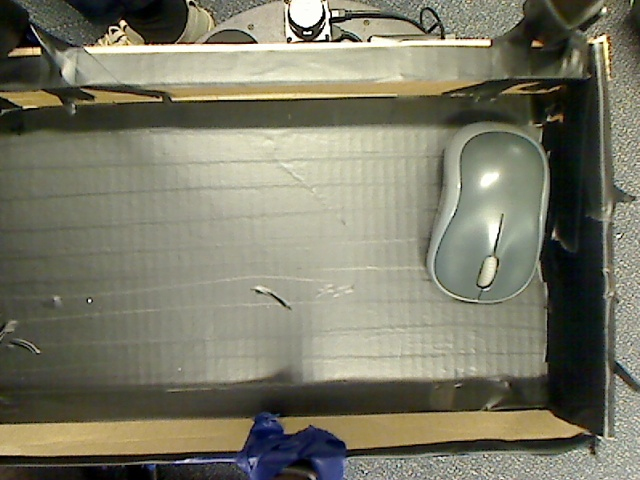mouse: (416, 105, 555, 316)
